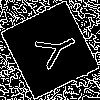Y: (25, 25, 82, 75)
